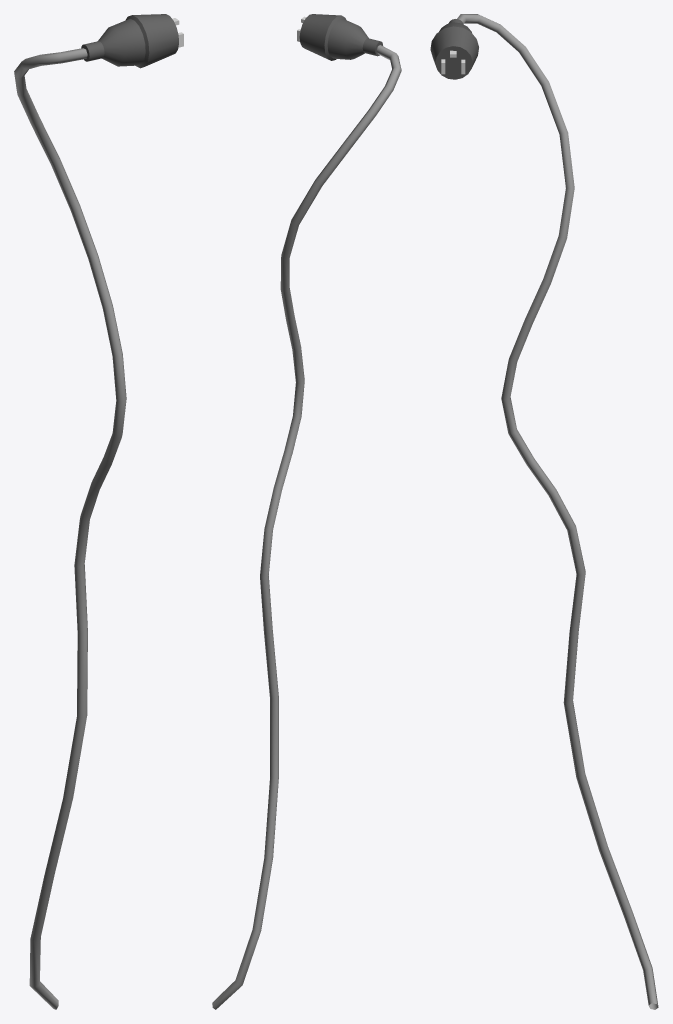
The model's file is Plug01.fbx.
3 views of the same model, side by side, from view 1: azimuth 30°, elevation 25°; view 2: azimuth 150°, elevation 25°; view 3: azimuth 270°, elevation 25° (orthographic). The views are drawn at different scales.
Parts seen in each view (by area): view 1: Plug01; view 2: Plug01; view 3: Plug01.
Boxes of the visible parts, x1,y1,x2,y2 form: Plug01: (14, 14, 183, 1009); Plug01: (212, 14, 401, 1009); Plug01: (430, 14, 658, 1009).
Size of the model in its own units: 0.1331 by 0.2244 by 1.05.
